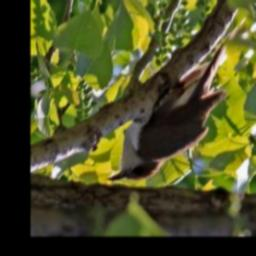Cuckoo: (107, 27, 232, 184)
